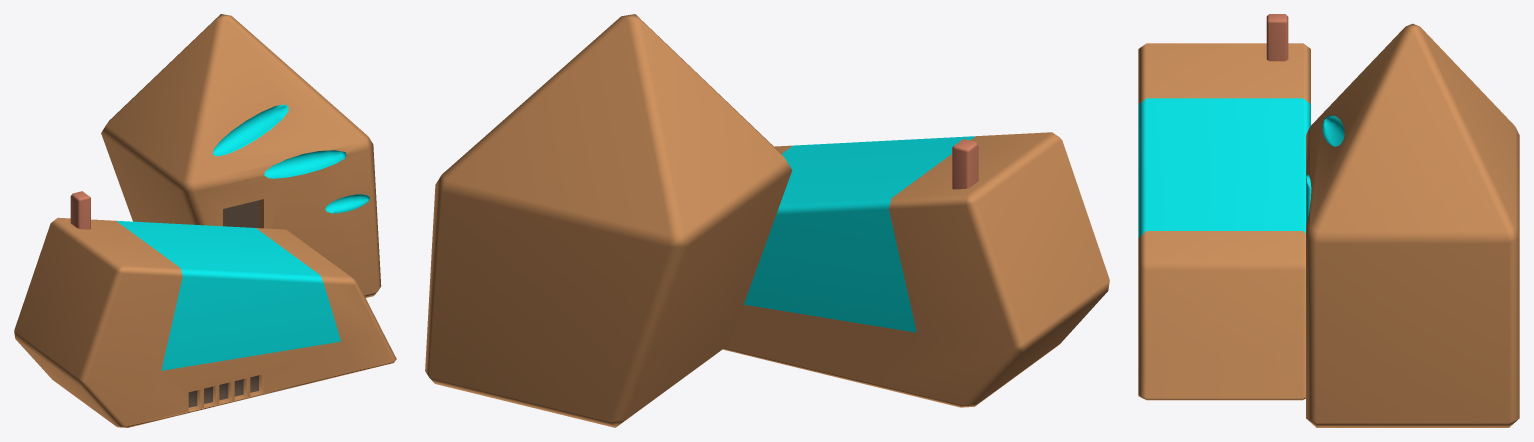
Rendered from SM_skyline_A.fbx.
The picture shows the model from 3 angles, left to right: view 1: azimuth 30°, elevation 25°; view 2: azimuth 150°, elevation 25°; view 3: azimuth 270°, elevation 25°; orthographic projection. The views are drawn at different scales.
Parts seen in each view (by area): view 1: pCube23; view 2: pCube23; view 3: pCube23.
Boxes of the visible parts, x1,y1,x2,y2 form: pCube23: [14, 14, 396, 427]; pCube23: [425, 14, 1109, 427]; pCube23: [1138, 14, 1519, 427].
Size of the model in its own units: 48.32 by 34.4 by 35.35.
